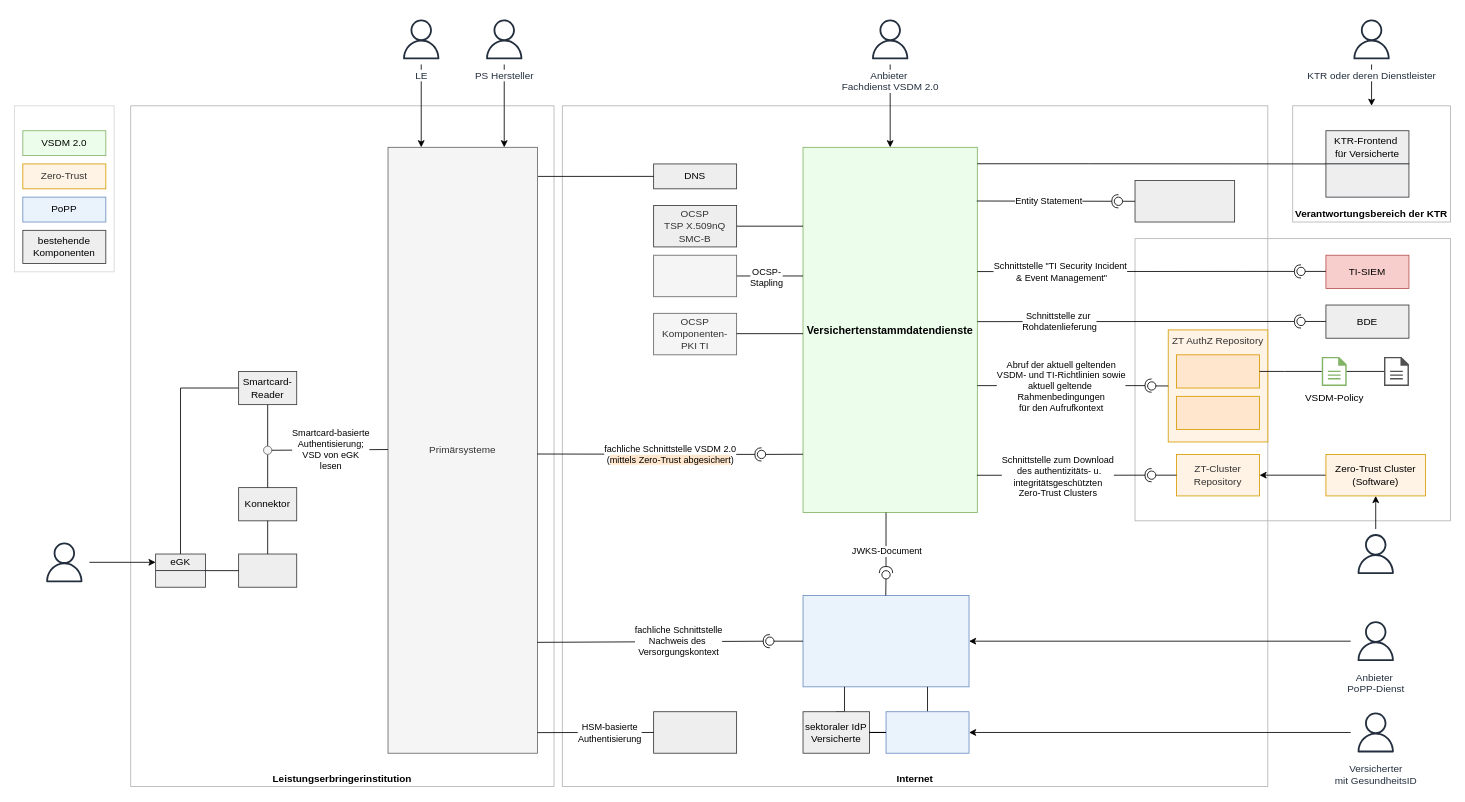
Some shapes in this 1465 by 802 pixel diagram are drawn without their labels. The shapes that lost their labels are listed below. From the top down, each one's box as (x1, y1, x2, y2) in pixels, then its label:
(14, 105, 114, 272): Legende
(1325, 163, 1409, 197): Bestandssysteme KTR
(1134, 180, 1235, 222): Federation Master
(653, 254, 737, 297): OCSP Internet-CA
(1176, 354, 1260, 388): PAP
(1134, 238, 1450, 521): gematik
(1384, 356, 1409, 386): TI-Policy
(1176, 395, 1260, 430): PIP
(39, 537, 89, 587): Versicherter mit eGK
(238, 553, 297, 587): eH-KT
(1350, 528, 1401, 579): Hersteller ZT-Cluster
(155, 570, 205, 587): SMC-B
(802, 595, 969, 687): Proof-of-Patient-Presence Dienst
(653, 711, 737, 753): TI-Gateway mit SM-B
(885, 711, 969, 753): Versicherten-Frontend PoPP- Funktionen
